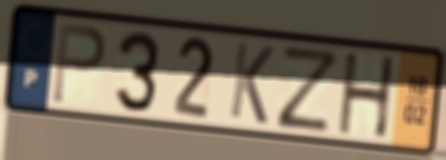2: (171, 34, 217, 122)
3: (113, 28, 163, 115)
H: (336, 50, 398, 141)
K: (226, 38, 277, 128)
P: (49, 19, 109, 107)
Z: (274, 42, 343, 136)
